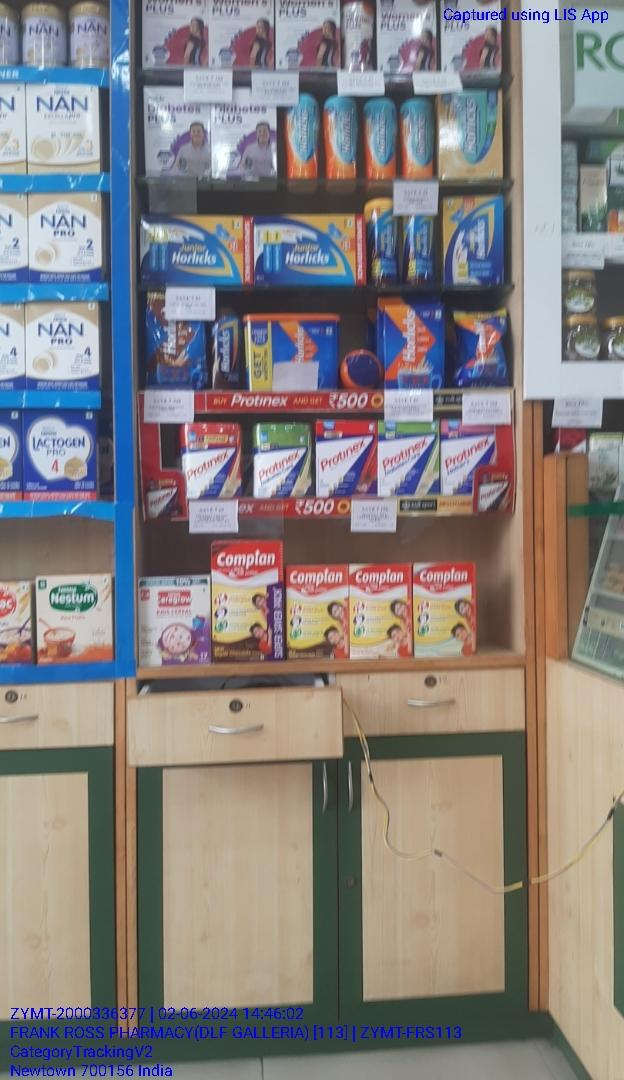HORLICKS_LITE_REGULAR_MALT_500_GM_JAR: (325, 97, 357, 182), (290, 93, 322, 177), (402, 98, 431, 178), (367, 101, 395, 182)
HORLICK_MALT_1_KG_CONTAINER: (246, 316, 340, 390)
PROTINEX_VANILLA_400_G_JAR: (186, 426, 243, 499)
